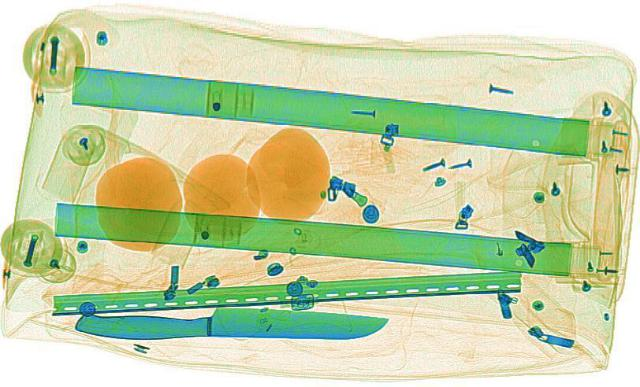Knife: (72, 306, 388, 338)
